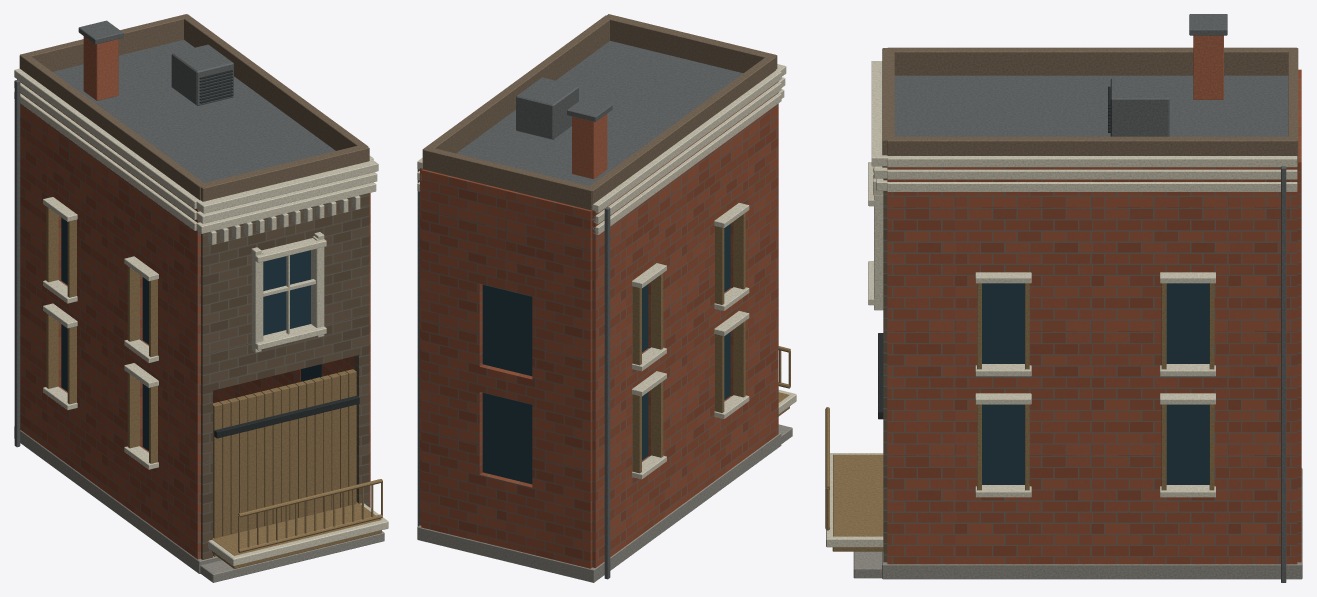
Rendered from WHSE18_lod1.glb.
3 views of the same model, side by side, from view 1: azimuth 30°, elevation 25°; view 2: azimuth 150°, elevation 25°; view 3: azimuth 270°, elevation 25° (orthographic). The views are drawn at different scales.
Parts seen in each view (by area): view 1: WHSE18_LOD1; view 2: WHSE18_LOD1; view 3: WHSE18_LOD1.
Part boxes in pixels (x1=…): WHSE18_LOD1: x1=14, y1=14, x2=388, y2=582; WHSE18_LOD1: x1=417, y1=14, x2=796, y2=582; WHSE18_LOD1: x1=825, y1=14, x2=1302, y2=582.
Size of the model in its own units: 3.71 by 7.85 by 6.98.
Materials: 11 (9 with a texture image).
